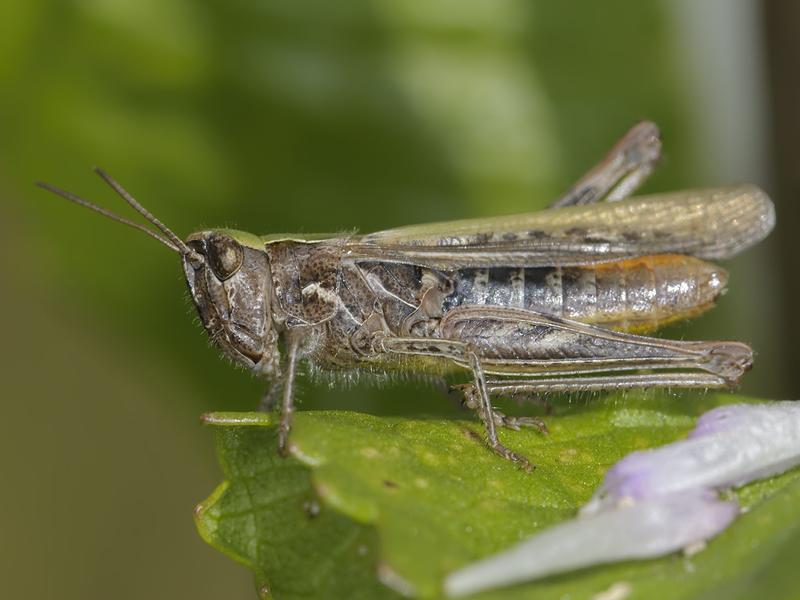Grasshopper: (115, 145, 778, 431)
